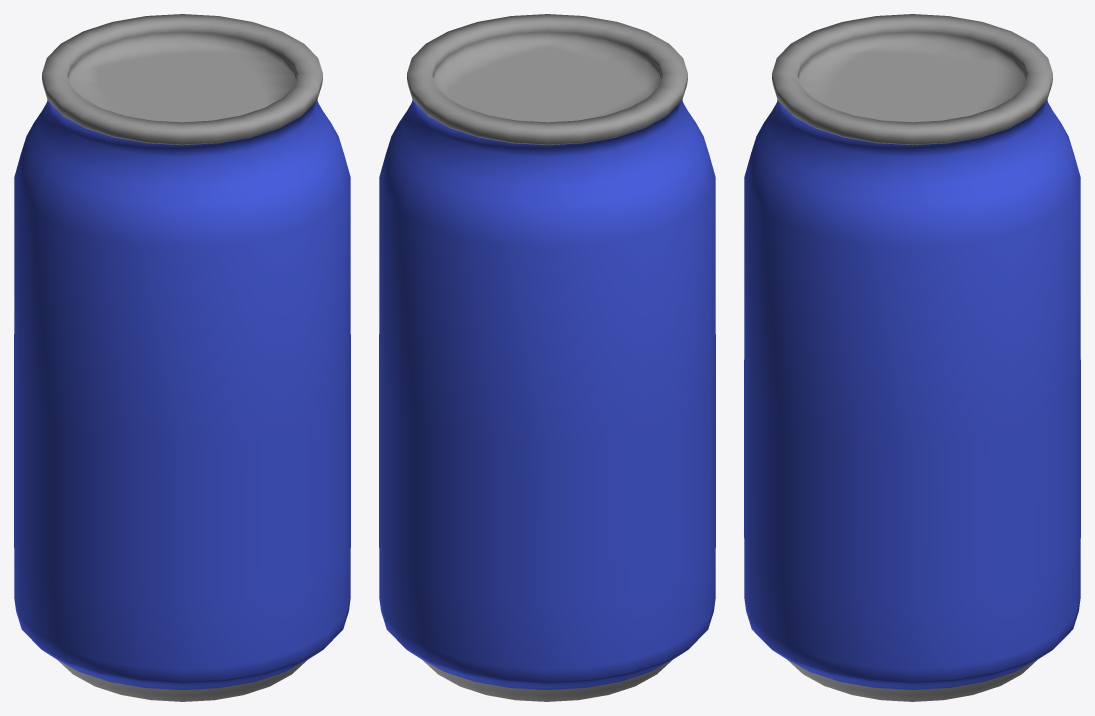
The model's file is Kaleng2.fbx.
The picture shows the model from 3 angles, left to right: view 1: azimuth 30°, elevation 25°; view 2: azimuth 150°, elevation 25°; view 3: azimuth 270°, elevation 25°; orthographic projection.
Visible parts, largest first — view 1: Kaleng2; view 2: Kaleng2; view 3: Kaleng2.
Part boxes in pixels (box(x1,y1,x2,y2)): Kaleng2: box(14, 14, 350, 701); Kaleng2: box(379, 14, 715, 701); Kaleng2: box(744, 14, 1080, 701).
Bounding box in the file's own units: 3.14 × 5.96 × 3.14.
